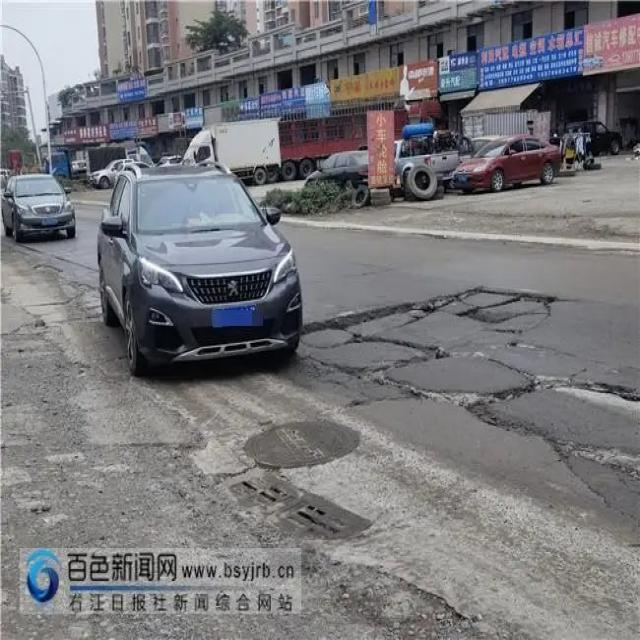Pothole: (309, 293, 594, 422)
